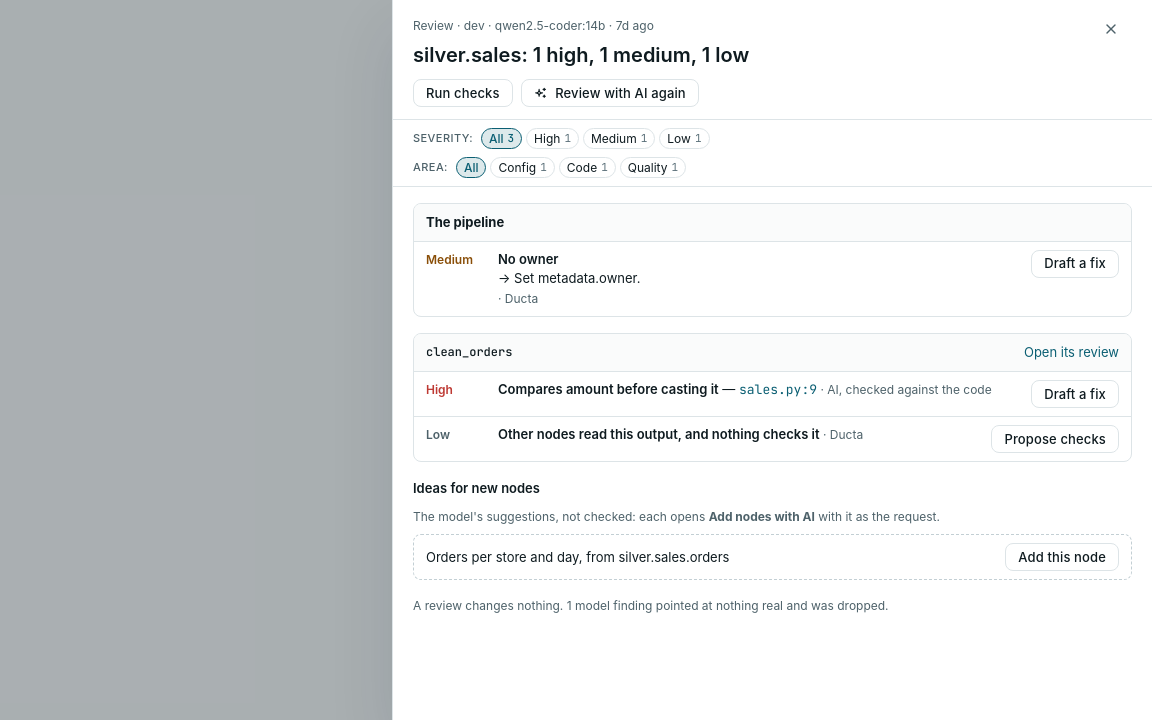
Test: PipelineReview › filters findings by severity and area chips
This screenshot has width=1152, height=720.
Expected: the text "Compares amount before casting it" is shown, [498,381,719,397]
Expected: the text "No owner" is shown, [498,251,558,267]
// Filter to high only
Click the button "High 1": {"x": 553, "y": 139} [526,128,579,149]
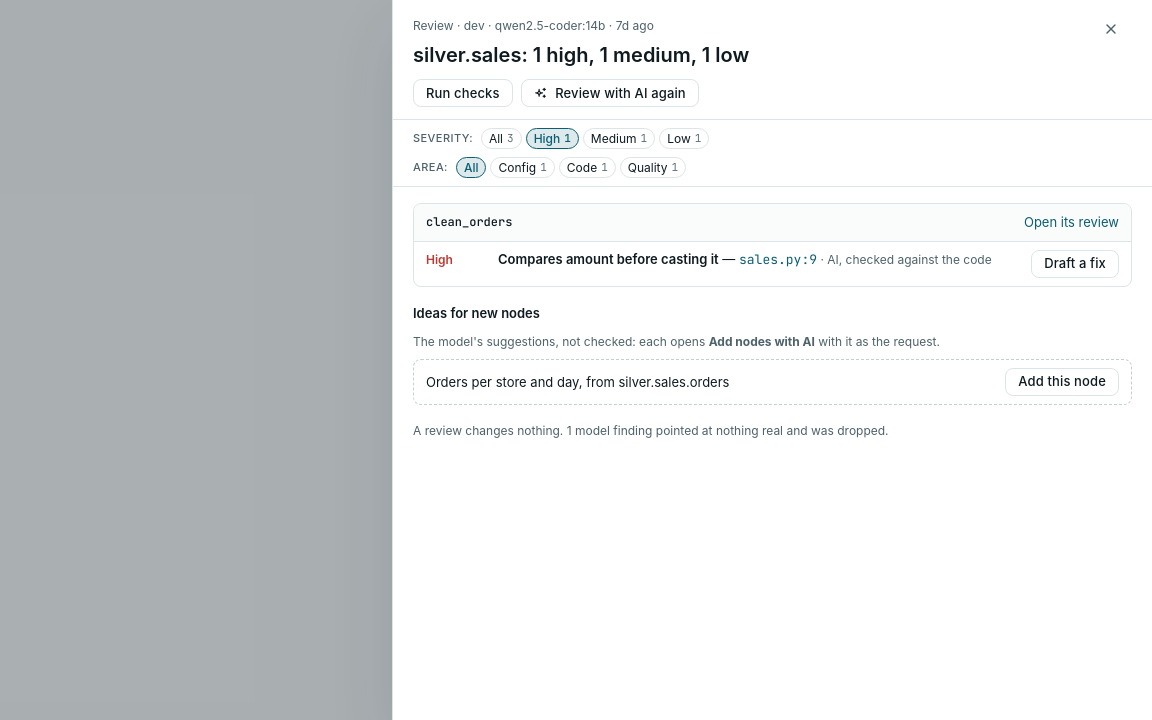
Expected: the text "Compares amount before casting it" is shown, [498,251,719,267]
Result: the text "No owner" is gone
// Reset to all
Click the button "All 3": {"x": 501, "y": 139} [481,128,522,149]
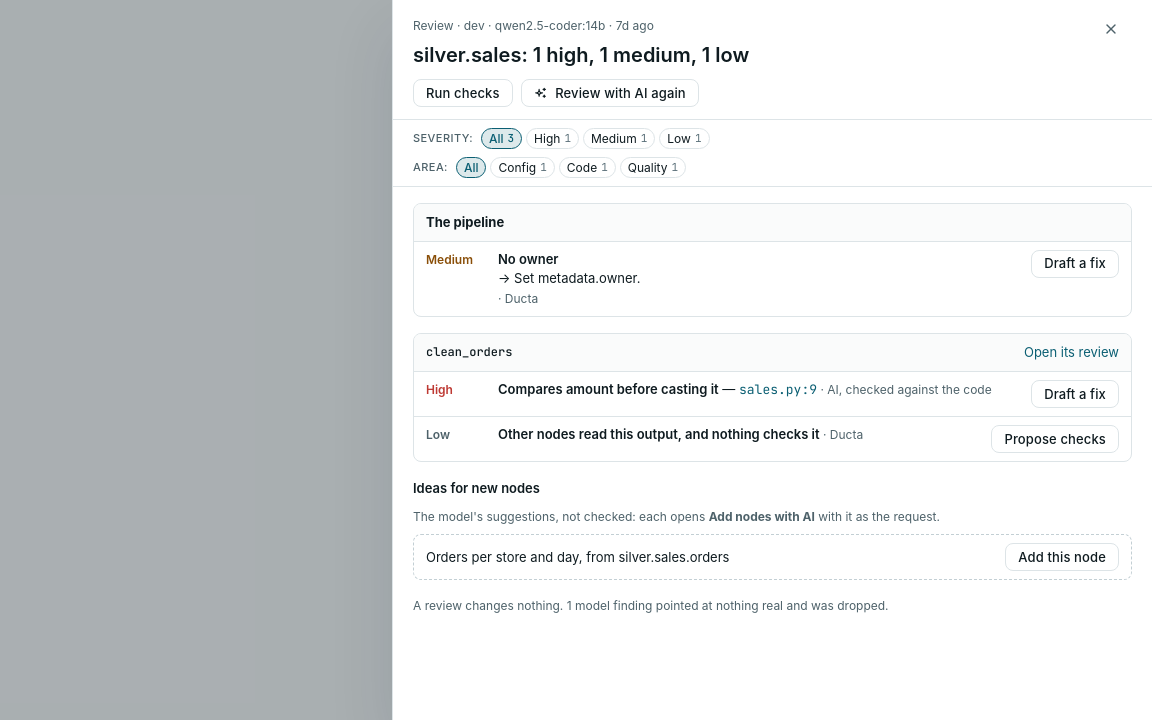
Result: the text "No owner" is shown at [498,251,558,267]
